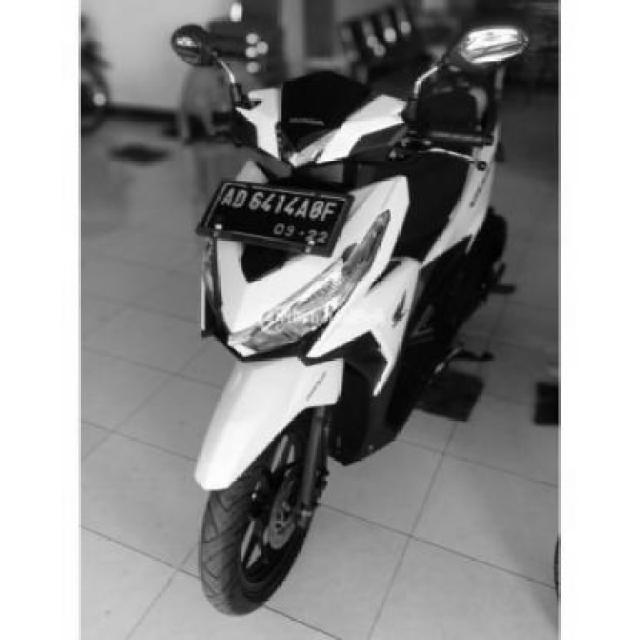1: (269, 192, 289, 218)
4: (279, 194, 303, 223), (258, 192, 279, 215)
6: (245, 190, 266, 213)
A: (292, 195, 314, 223), (221, 187, 235, 206)
D: (234, 189, 247, 207)
F: (315, 200, 340, 225)
O: (306, 199, 327, 221)
Plate: (205, 183, 346, 249)
